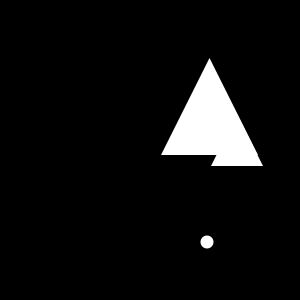rectangle: (200, 235, 214, 248)
triangle: (161, 58, 258, 155), (211, 114, 263, 166)
